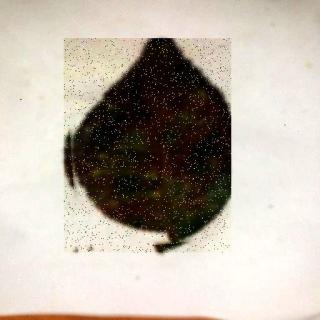Red Leaf Spot: (65, 39, 233, 254)
